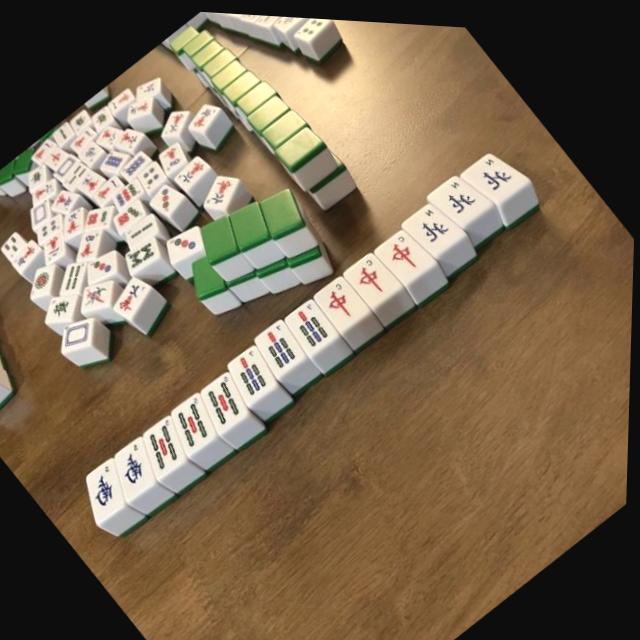hdr: (374, 222, 439, 281), (314, 269, 373, 330), (344, 246, 405, 304)
hwn: (460, 145, 532, 198), (426, 168, 496, 222), (402, 196, 468, 252)
hws: (116, 433, 160, 502), (89, 454, 130, 524)
sb5: (201, 367, 252, 432), (172, 388, 221, 454), (145, 411, 191, 478)
sb7: (228, 340, 282, 404), (255, 314, 310, 376), (285, 293, 341, 353)
